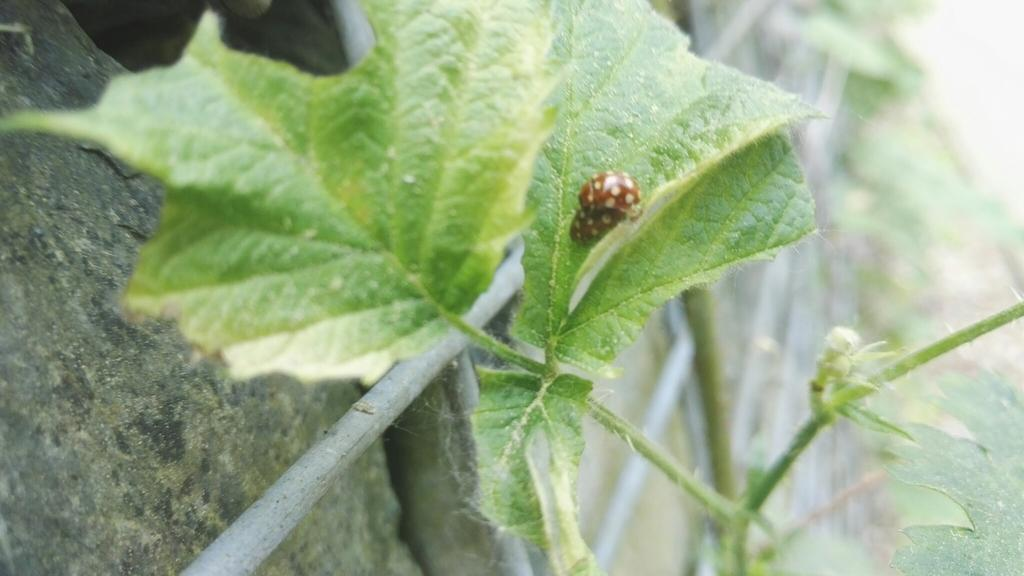ladybug: (569, 167, 646, 249)
